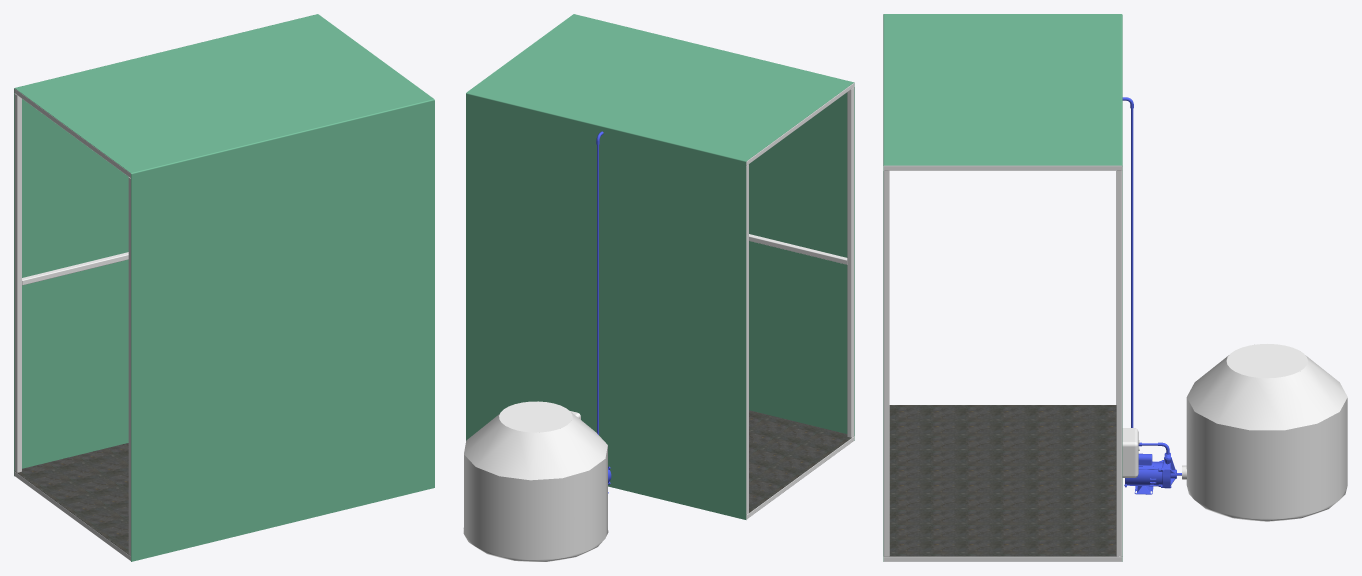
File: CABINA_DESINFECCION.glb
3 renders of one model, left to right at view 1: azimuth 30°, elevation 25°; view 2: azimuth 150°, elevation 25°; view 3: azimuth 270°, elevation 25°, orthographic. The views are drawn at different scales.
Parts seen in each view (by area): view 1: CABINA_DESINFECCION; view 2: CABINA_DESINFECCION; view 3: CABINA_DESINFECCION.
Part boxes in pixels (x1,y1,x2,y2): CABINA_DESINFECCION: [14, 14, 434, 561]; CABINA_DESINFECCION: [463, 14, 854, 561]; CABINA_DESINFECCION: [883, 14, 1347, 561].
Size of the model in its own units: 1.8 by 2.2 by 2.34.
Materials: 9 (2 with a texture image).
